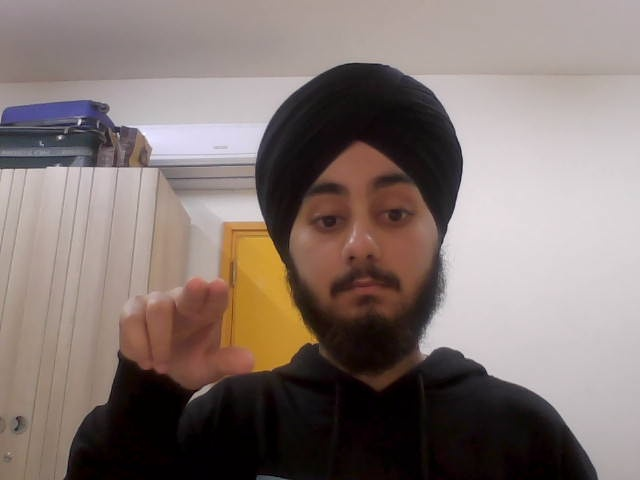No: (118, 263, 257, 389)
